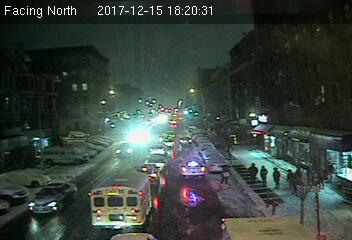car: (26, 181, 79, 215), (114, 142, 138, 158), (207, 157, 227, 172), (147, 143, 168, 155), (179, 135, 192, 146)
pedestrian: (248, 161, 259, 183), (221, 165, 233, 184), (259, 166, 269, 187), (272, 167, 281, 189)
police: (179, 156, 207, 178)
truck: (90, 169, 154, 230)
